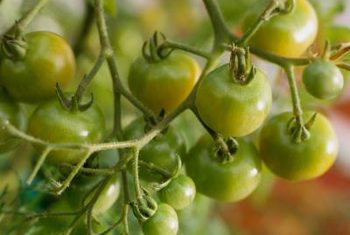stems: (189, 107, 228, 153), (71, 56, 106, 105), (240, 1, 283, 40), (283, 65, 304, 133), (154, 40, 208, 59), (132, 148, 146, 216), (138, 159, 170, 178), (233, 46, 248, 77)
tomato: (196, 61, 272, 135), (1, 29, 74, 104), (29, 92, 106, 163), (185, 132, 262, 203), (261, 110, 338, 179), (121, 116, 191, 184), (129, 51, 202, 114), (242, 1, 319, 60), (301, 59, 345, 101), (158, 175, 198, 210), (140, 202, 181, 235)
